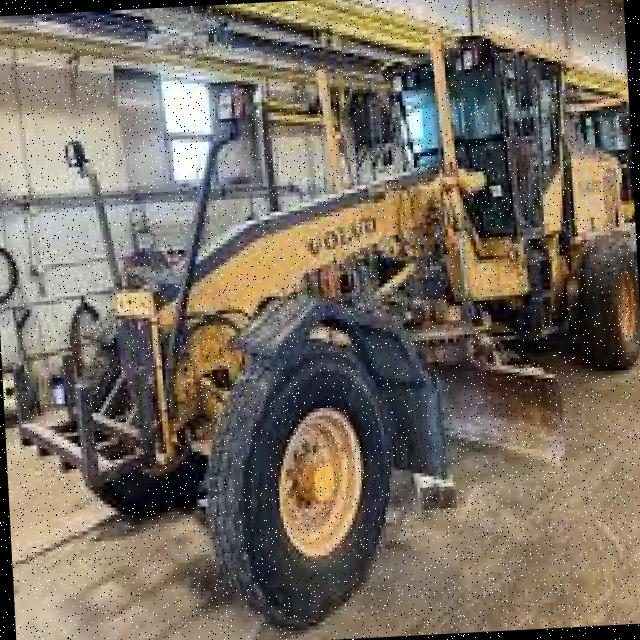Grader: (23, 12, 640, 635)
